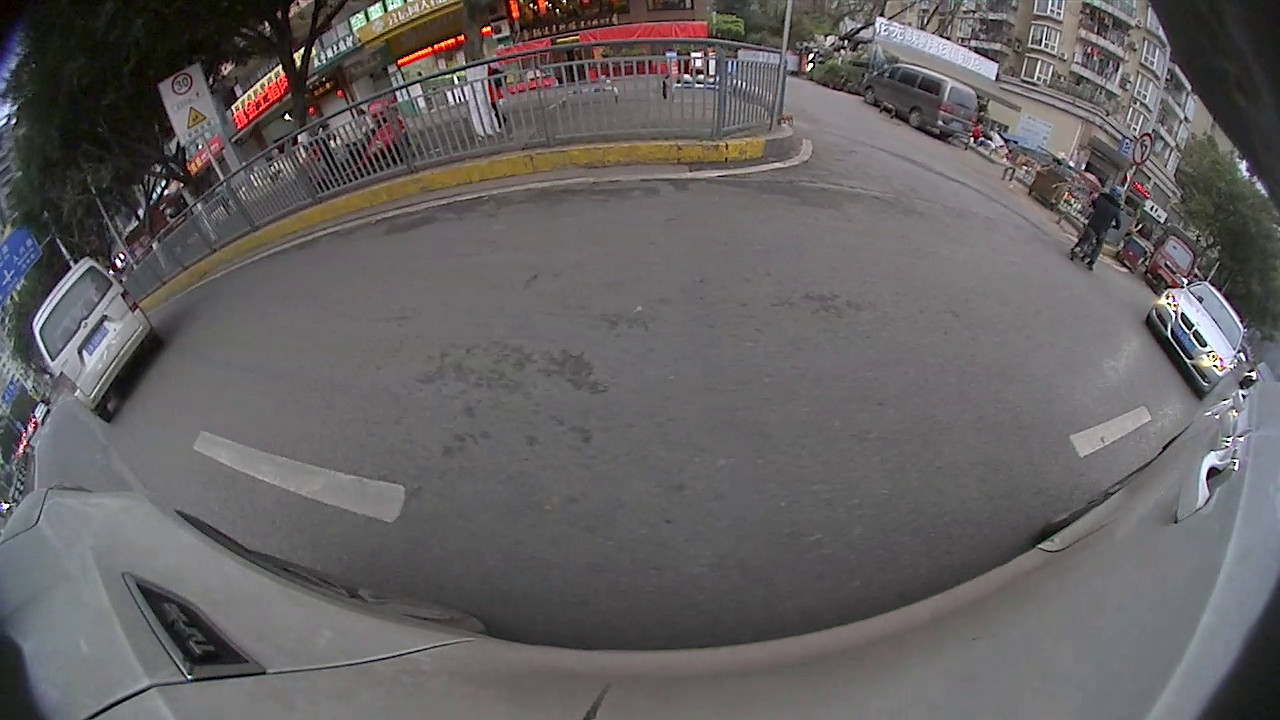car: (27, 251, 163, 423), (1141, 274, 1252, 401), (858, 57, 983, 145)
front: (864, 87, 877, 104)
rear: (907, 109, 922, 131)
rider: (294, 90, 417, 199), (1071, 176, 1127, 272), (1146, 224, 1200, 290)
